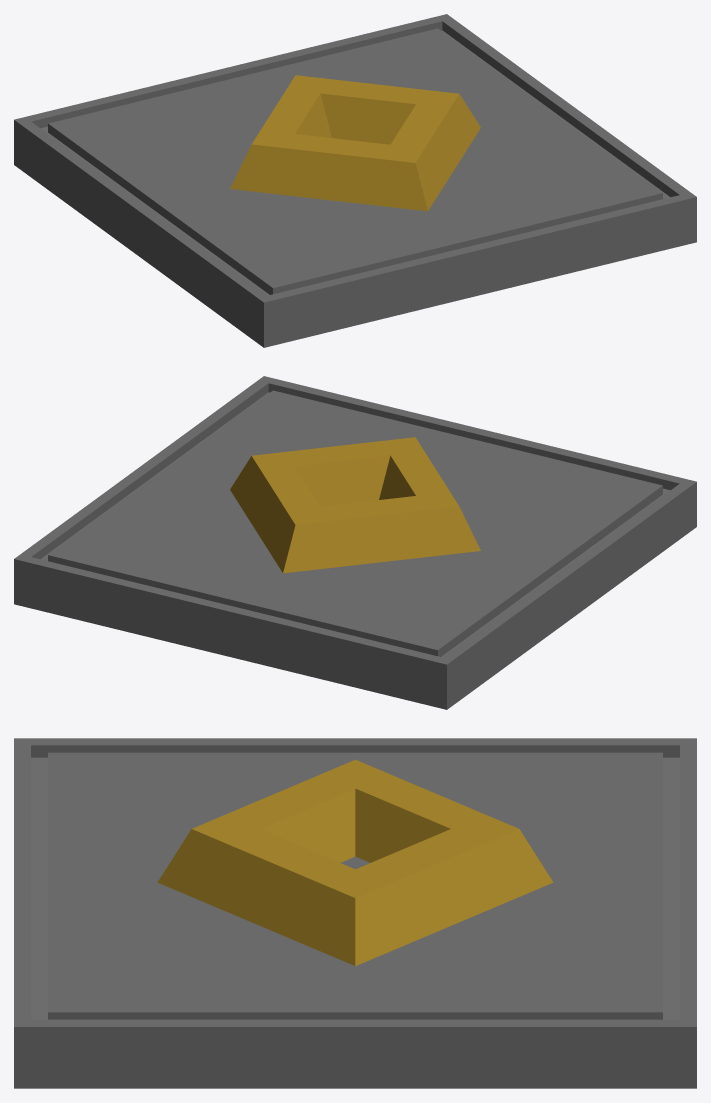
Rendered from Dart Trap Base.glb.
3 views of the same model, one above another, from view 1: azimuth 30°, elevation 25°; view 2: azimuth 150°, elevation 25°; view 3: azimuth 270°, elevation 25° (orthographic). The views are drawn at different scales.
Parts seen in each view (by area): view 1: Dart Trap; view 2: Dart Trap; view 3: Dart Trap.
Boxes of the visible parts, x1,y1,x2,y2 form: Dart Trap: (14,14,696,347); Dart Trap: (14,376,696,709); Dart Trap: (14,738,696,1088).
Size of the model in its own units: 1 by 0.1866 by 1.
